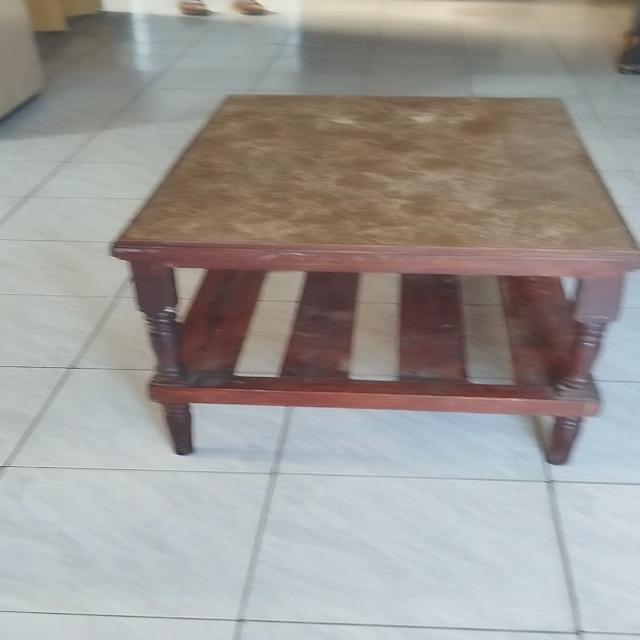table: (109, 88, 631, 473)
